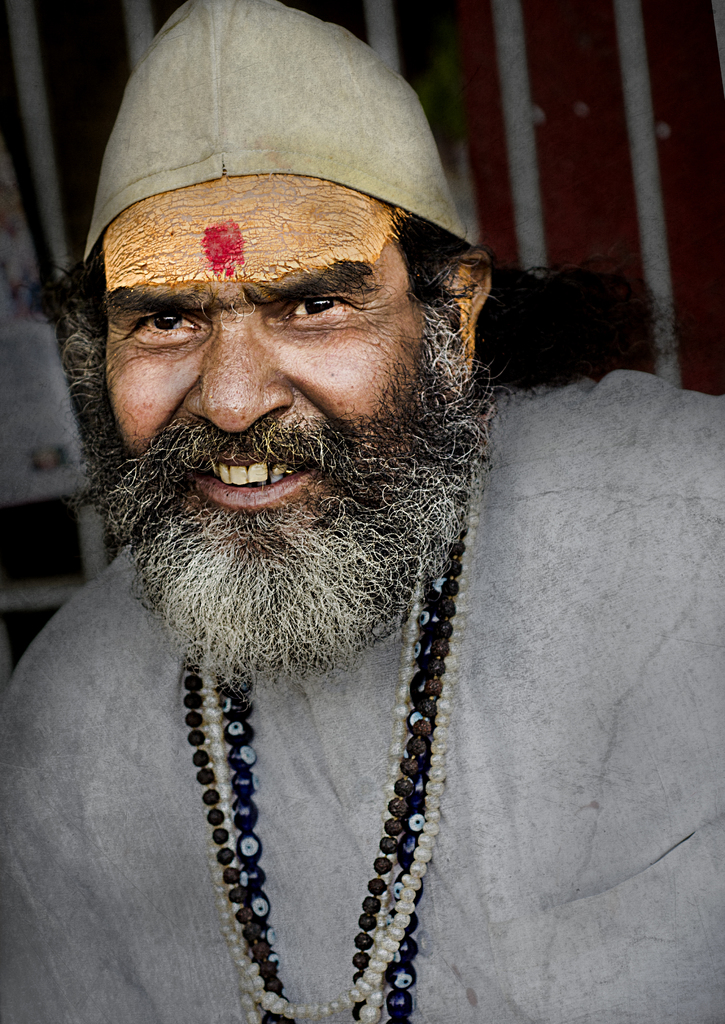face: (115, 110, 391, 610)
